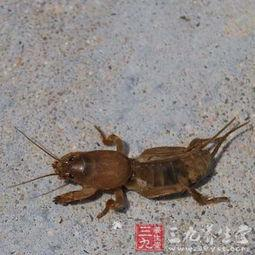mole_cricket: (9, 97, 233, 207)
